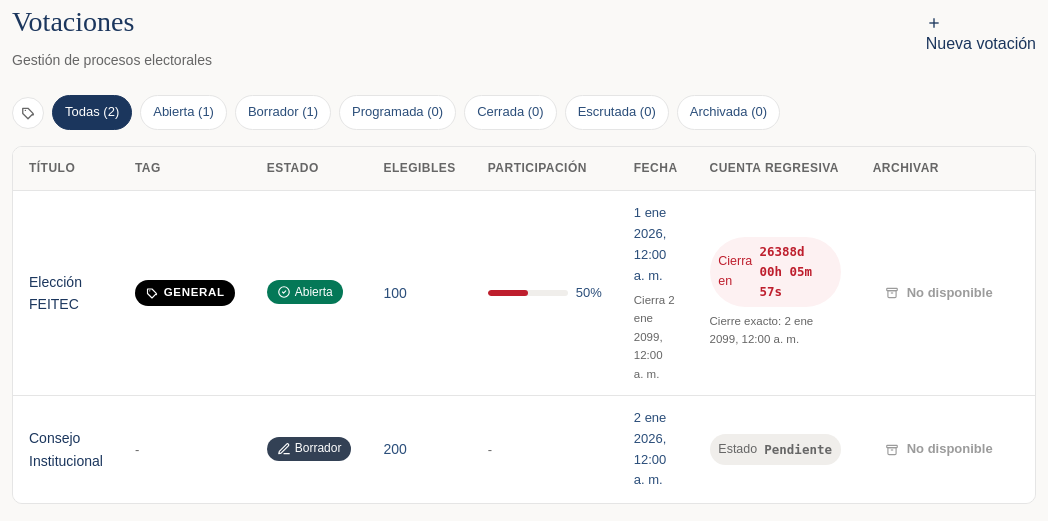
Test case: EleccionesPage › filters elections by status
This screenshot has width=1048, height=521.
Expected: the text "Consejo Institucional" is shown, [29,427,103,472]
Click the button "Borrador (1)": point(283, 113) [235,95,331,130]
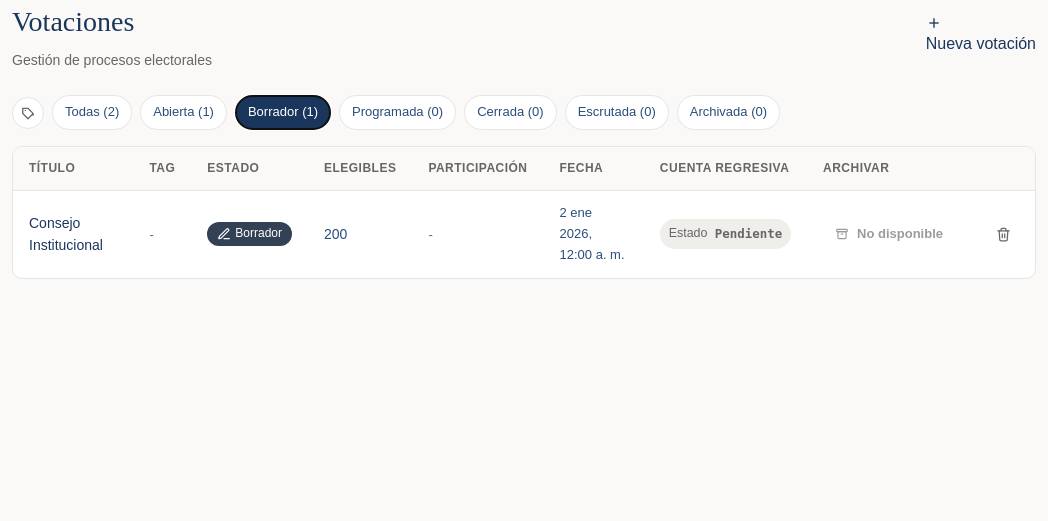
Expected: the text "Consejo Institucional" is shown, [29,215,103,253]
Expected: the text "Elección FEITEC" is gone
